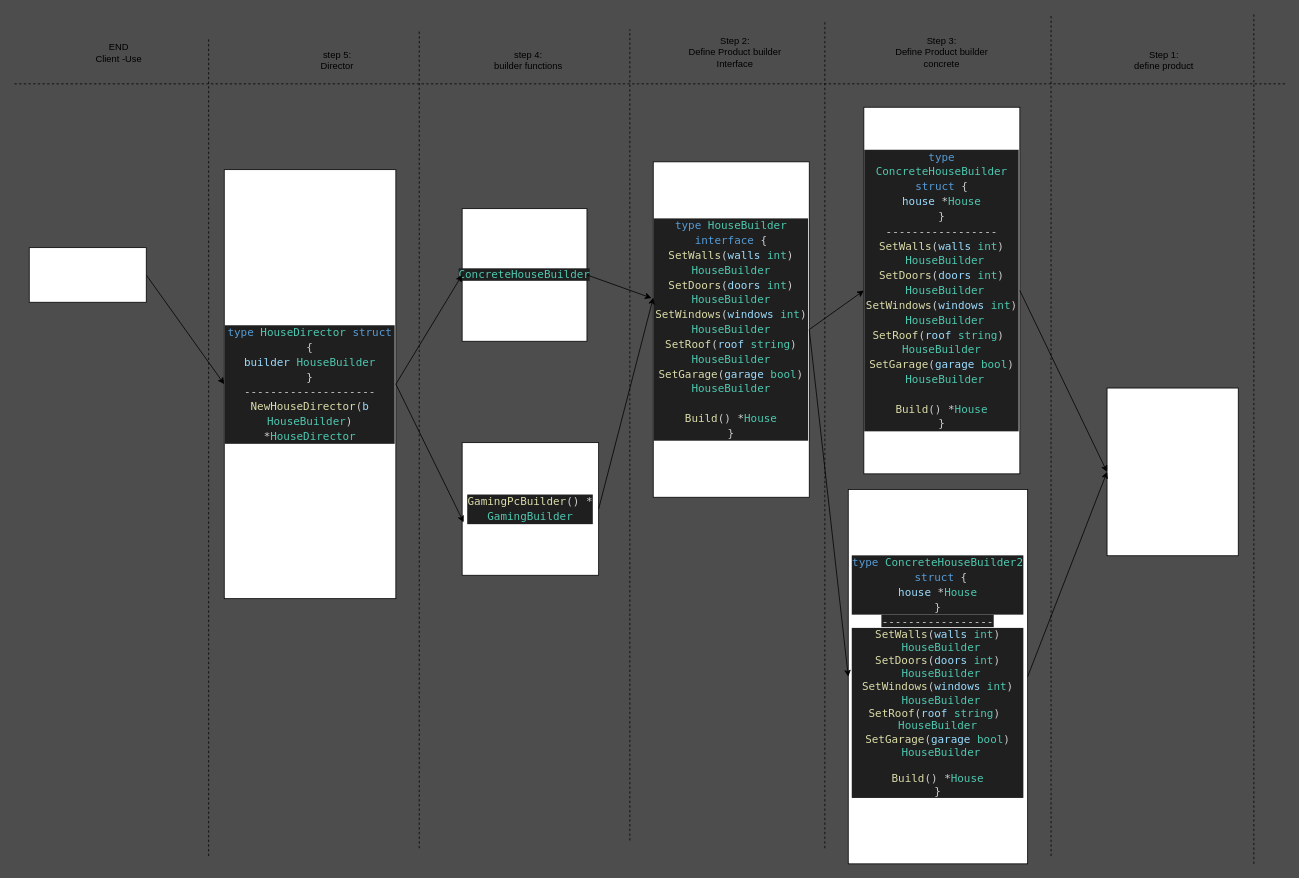
Image size: 1299x878. Some labels were removed from this diagram. The shapes that lost their labels are listed below. From the top down, each one's box as (x1, y1, x2, y2) in pixels, then its label:
(28, 247, 146, 302): Client
(1106, 387, 1238, 556): type House struct { walls int doors int windows int roof string garage bool }
